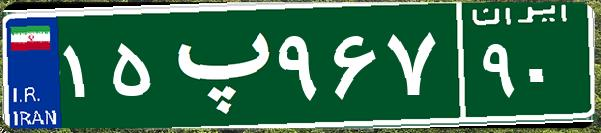0: (525, 38, 570, 115)
1: (57, 26, 110, 107)
5: (110, 28, 158, 105)
6: (330, 28, 385, 110)
7: (385, 28, 445, 110)
9: (273, 28, 330, 110), (475, 38, 525, 113)
پ: (158, 15, 273, 115)
